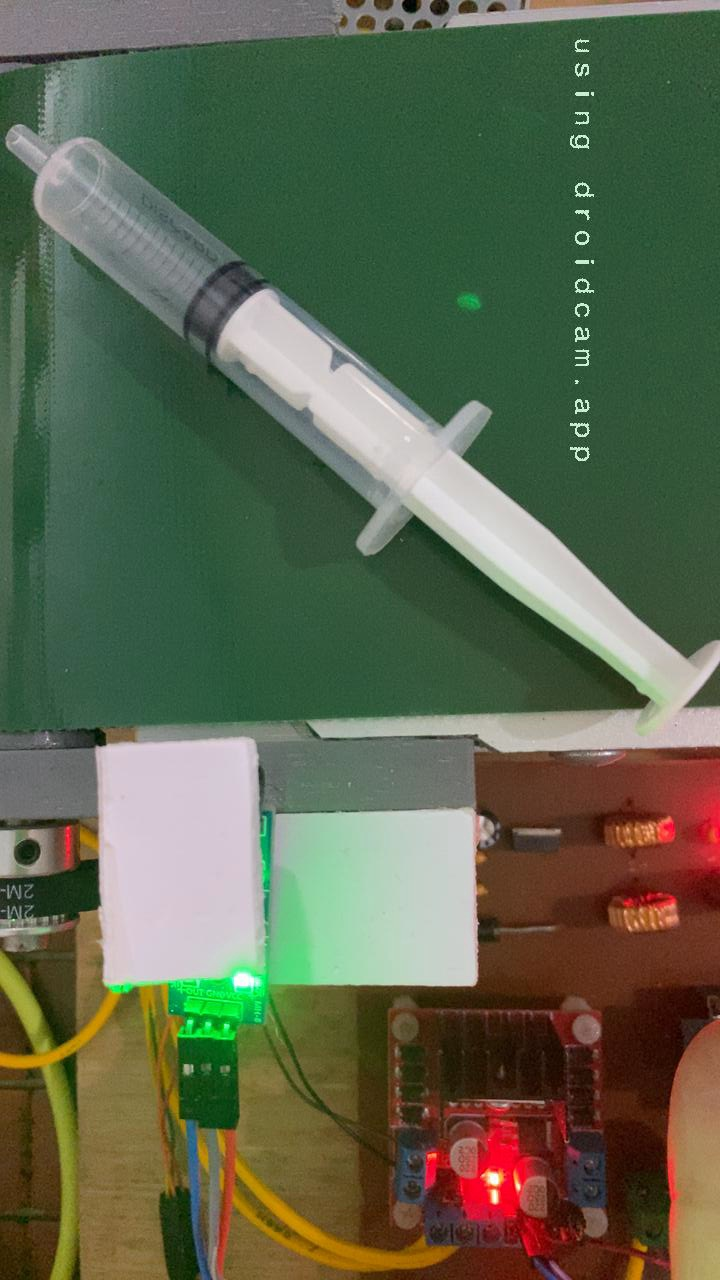syringe: (0, 27, 720, 719)
